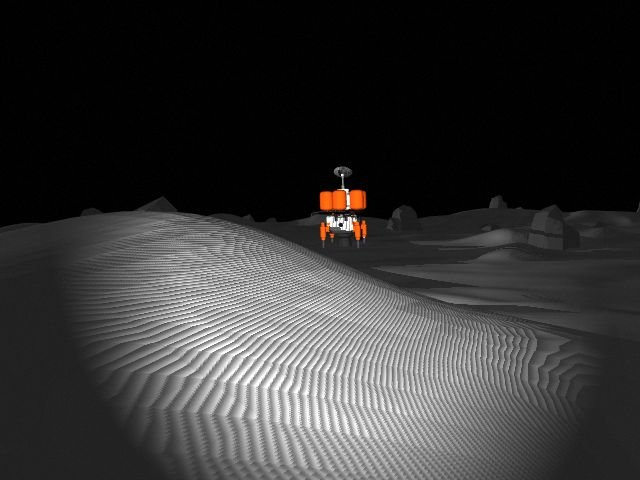homebase: (309, 164, 374, 252)
